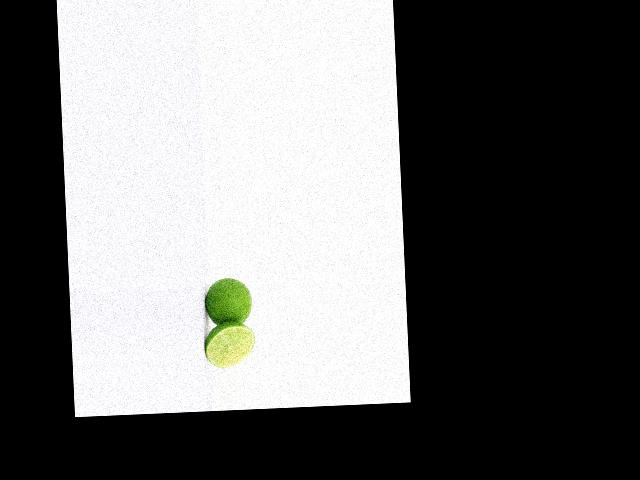lemon: (200, 275, 253, 326)
